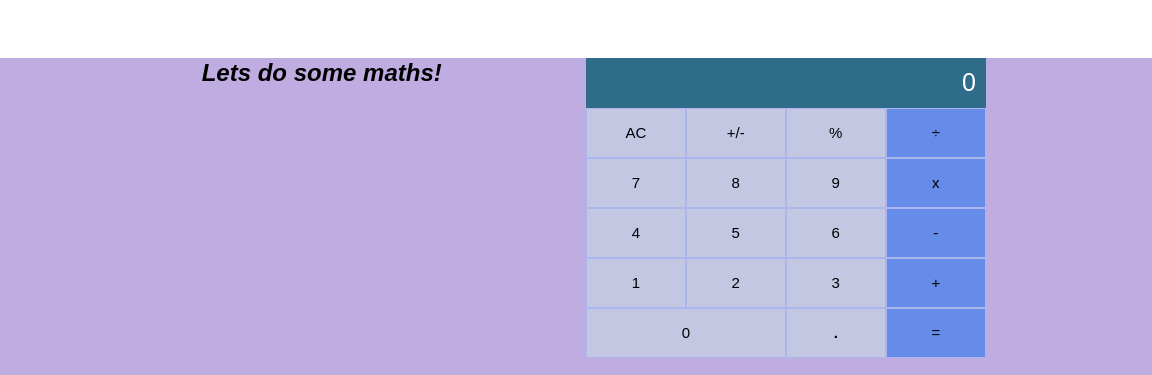
Test: To check calculator buttons › To check if correct value is displayed on button click
Step 1. Click the button with test id "btn-7" → click(636, 183), box [586,158,686,208]
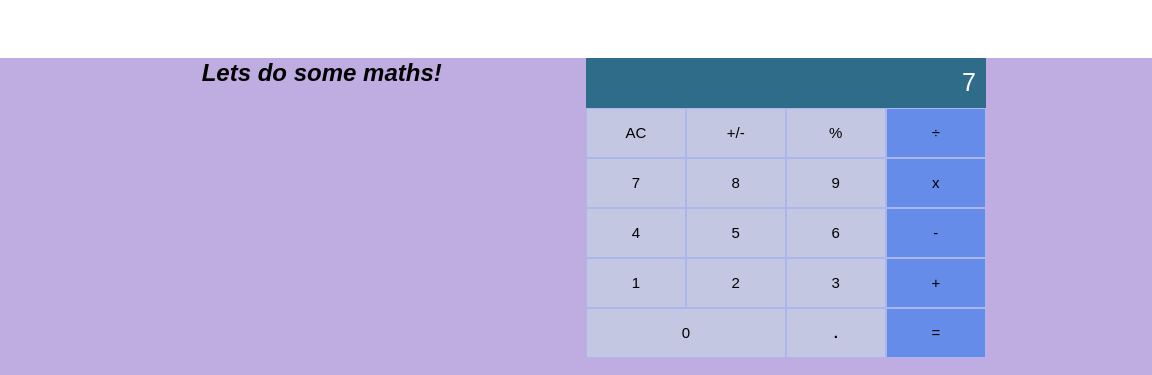
Now the text with test id "display-result" reads "7", box [962,68,976,96]
